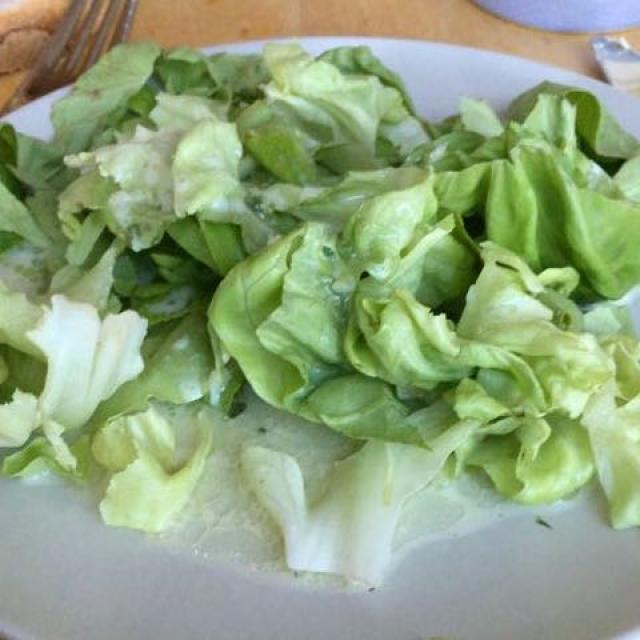salad-leaf-salad-green: (10, 54, 631, 581)
